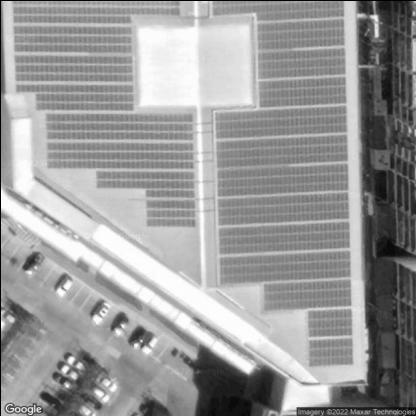solar-pv-panel: (210, 1, 354, 364), (10, 1, 198, 227)
